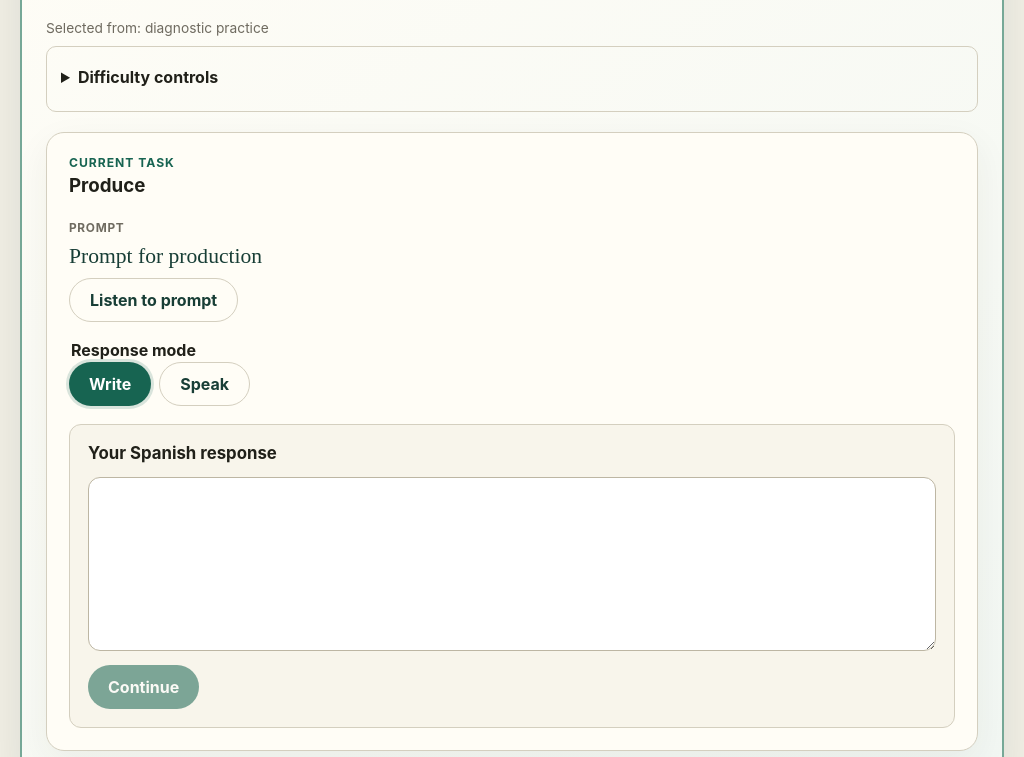
Test: 15-minute desktop session UI › offers local spoken practice and exposes the recording retention control
(page scrolled)
Click the button "Speak": click(205, 384) [159,362,250,406]
(page scrolled)
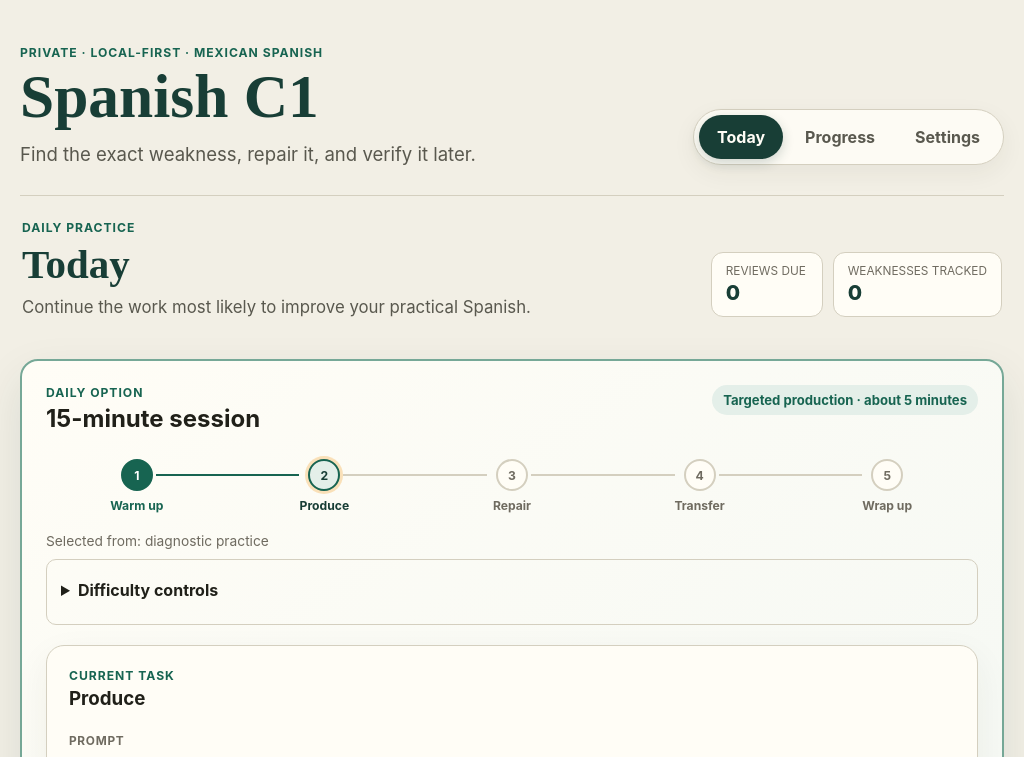
Click the button "Settings": click(948, 137) [897,115,998,159]
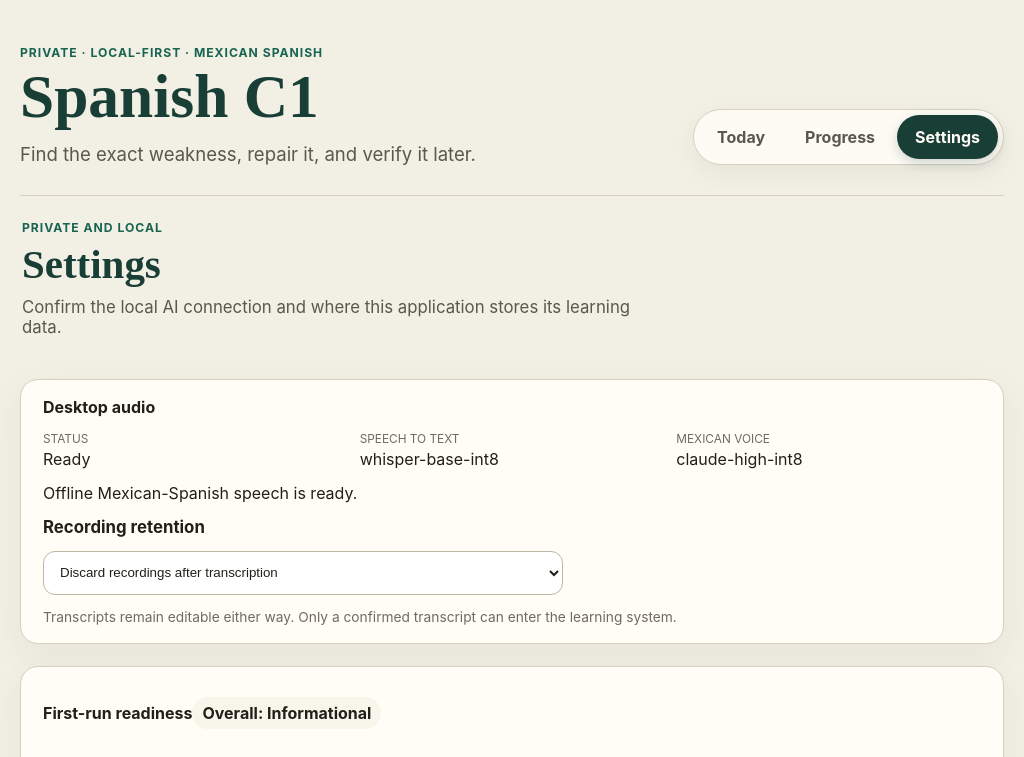
Now the dropdown labelled "Recording retention" is shown, box [43,550,563,594]
Now the text "Only a confirmed transcript can enter the learning system" is shown, box [43,608,677,624]
